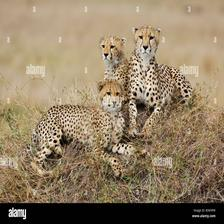Cheetah: (30, 77, 151, 178), (128, 25, 197, 140), (100, 33, 162, 134)
